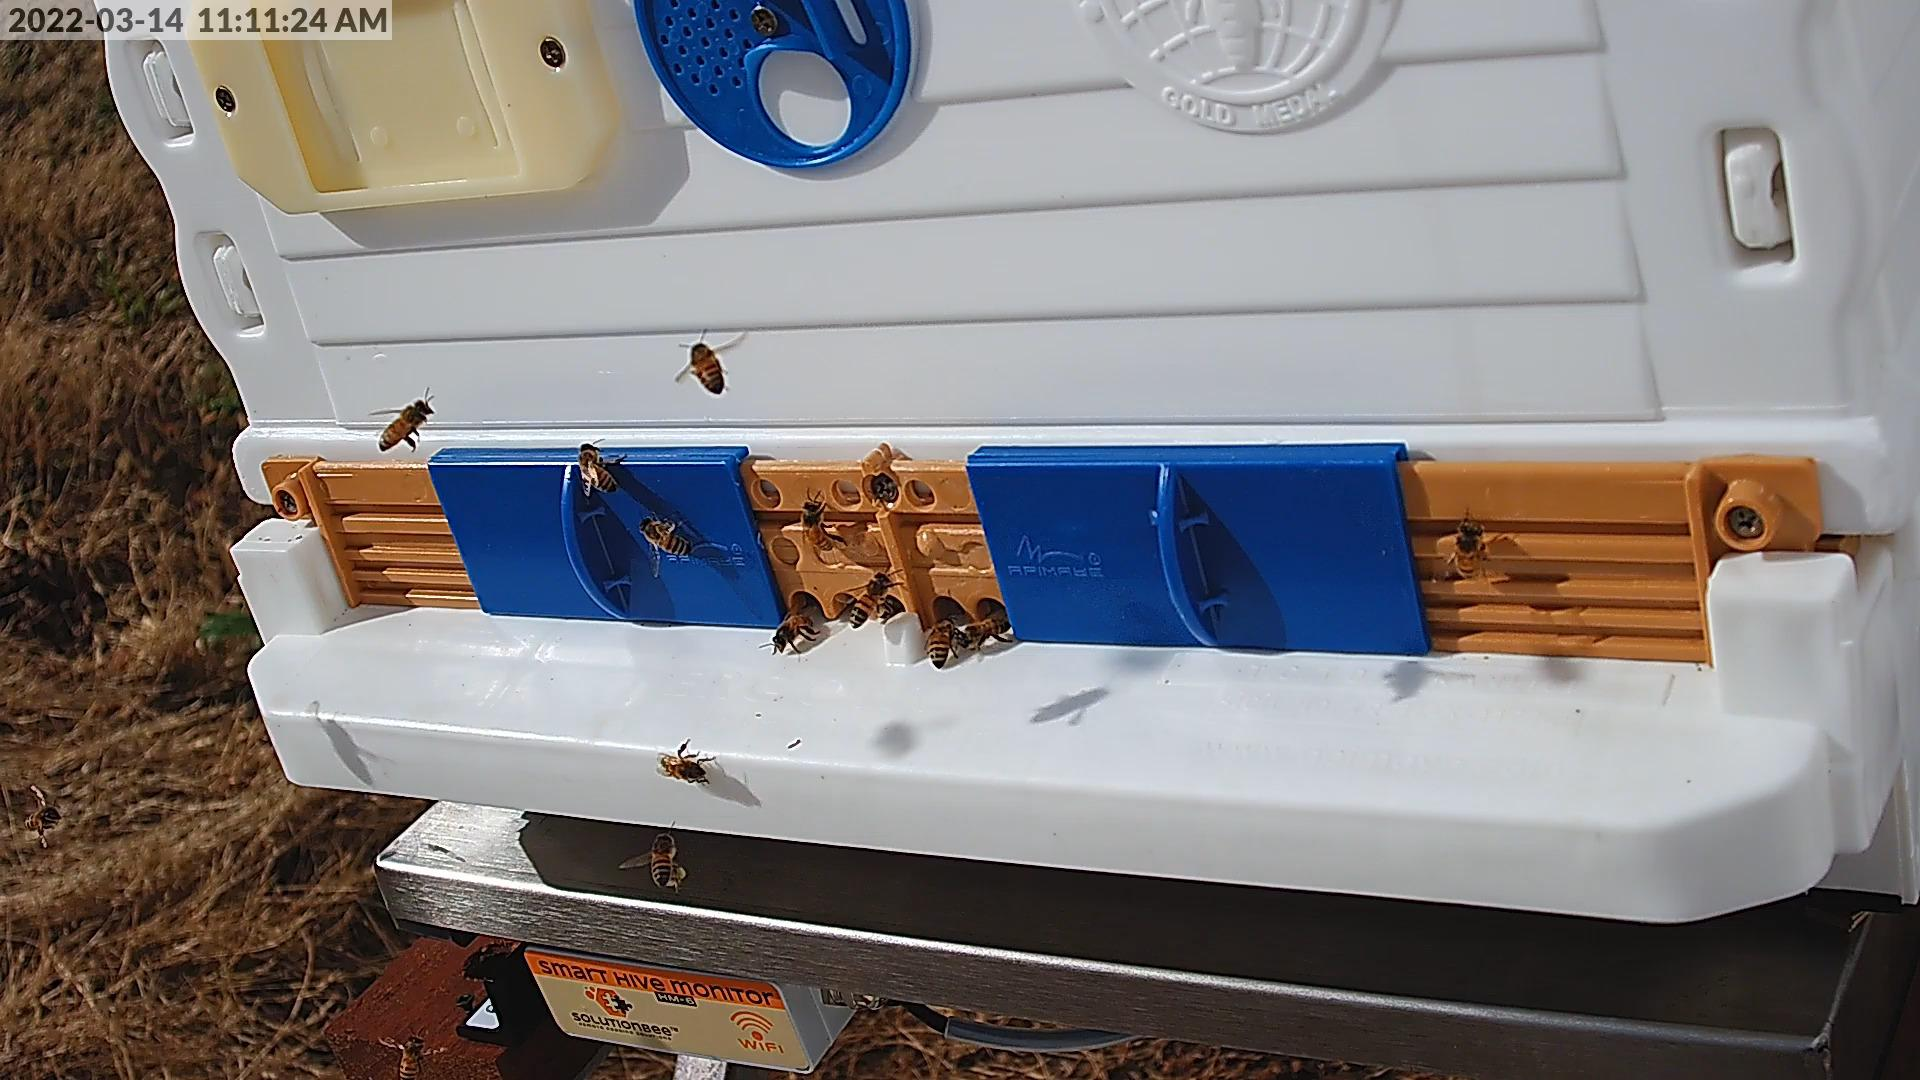bee: (380, 398, 430, 451), (638, 518, 691, 556), (576, 443, 616, 492), (1452, 525, 1487, 579), (957, 618, 1013, 647), (692, 344, 723, 393), (774, 613, 812, 651), (804, 501, 832, 553), (662, 753, 708, 783), (928, 620, 956, 669), (25, 806, 62, 831), (401, 1036, 422, 1080)
pollenbee: (853, 572, 891, 630), (651, 832, 684, 889)
